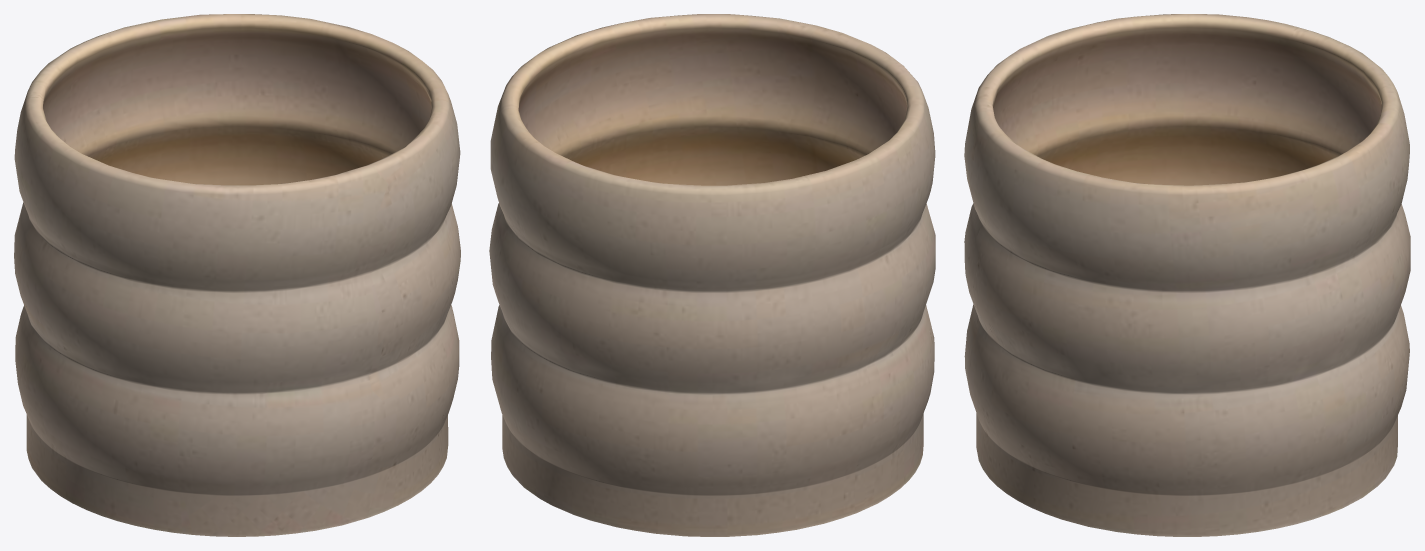
File: hasselbukett_osonka_doniczki_40621823.glb
The picture shows the model from 3 angles, left to right: view 1: azimuth 30°, elevation 25°; view 2: azimuth 150°, elevation 25°; view 3: azimuth 270°, elevation 25°; orthographic projection.
Visible parts, largest first — view 1: hasselbukett_osonka_doniczki_40621823; view 2: hasselbukett_osonka_doniczki_40621823; view 3: hasselbukett_osonka_doniczki_40621823.
Boxes of the visible parts, x1,y1,x2,y2 form: hasselbukett_osonka_doniczki_40621823: (14,14,460,536); hasselbukett_osonka_doniczki_40621823: (489,14,935,536); hasselbukett_osonka_doniczki_40621823: (964,14,1410,536).
Bounding box in the file's own units: 0.2441 × 0.2092 × 0.2437.
1 material, 1 textured.
